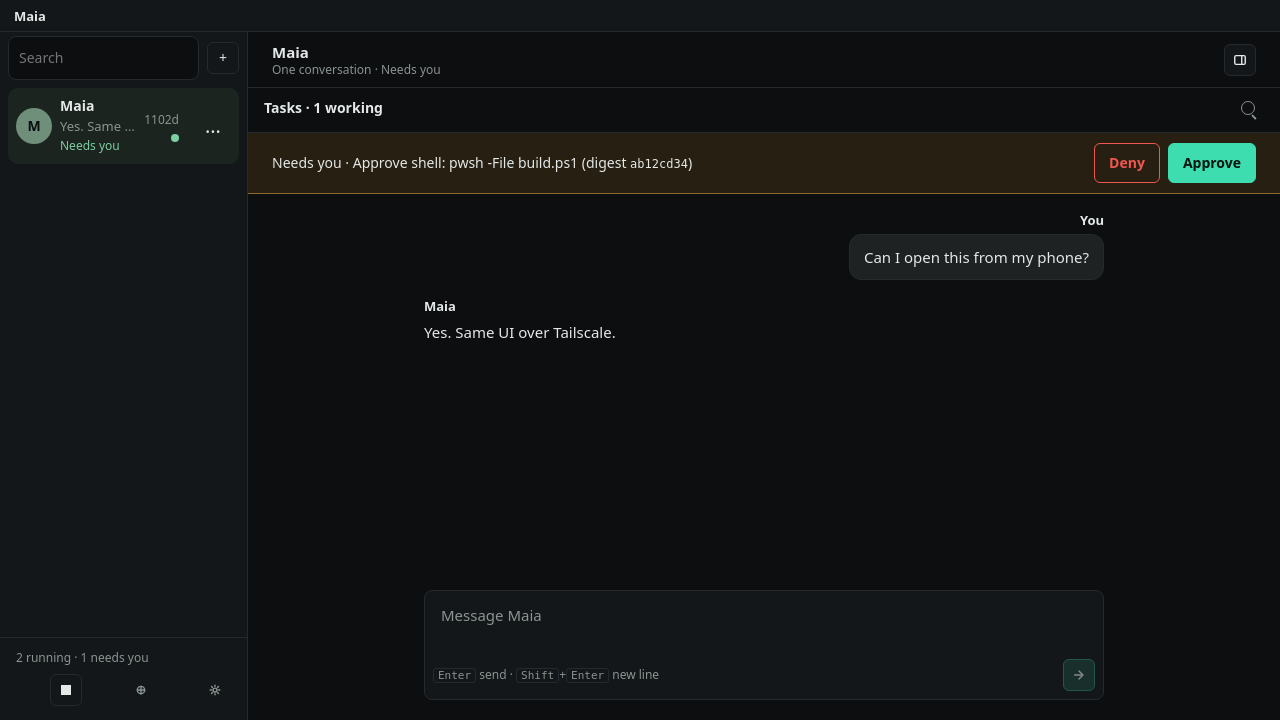
Test: RouterConversation › keeps a helper read-only and refreshes its open detail on Stop all
Click the button "Tasks · 1 working" at (324, 108), box top-left (264, 94), bottom-right (383, 122)
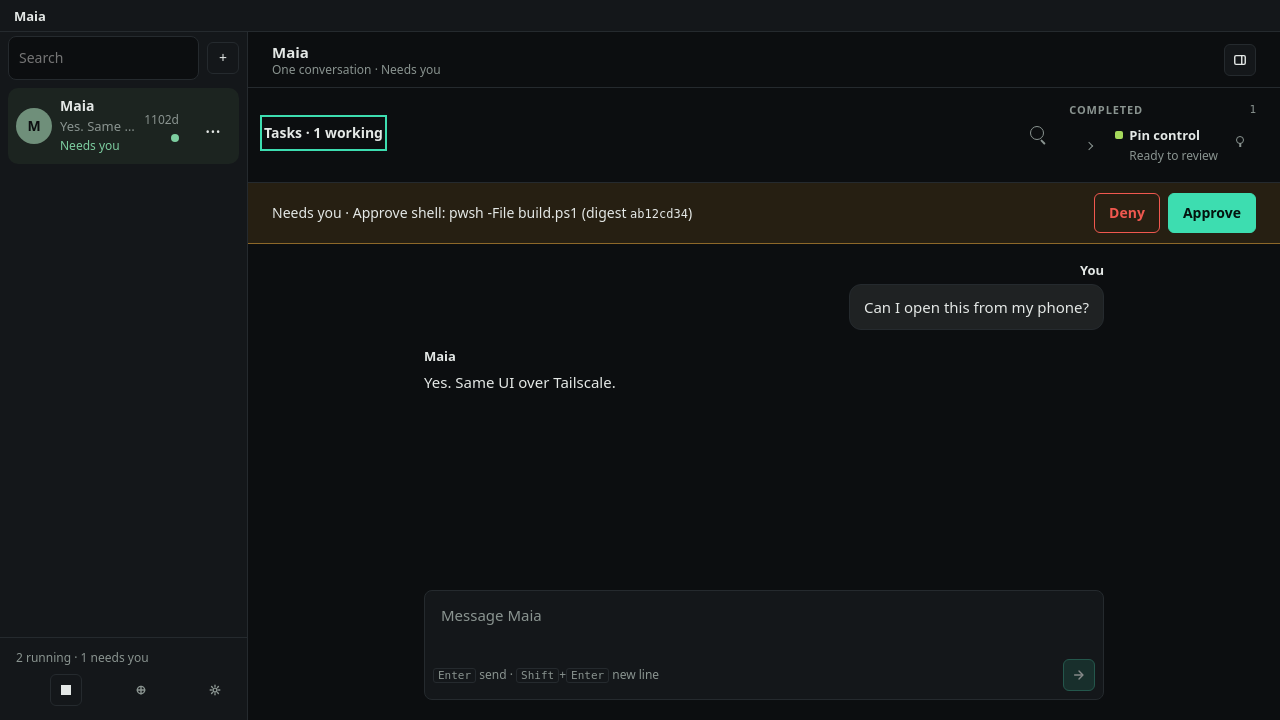
Click the button named "Expand Pin control" at (1089, 146), box top-left (1069, 126), bottom-right (1109, 166)
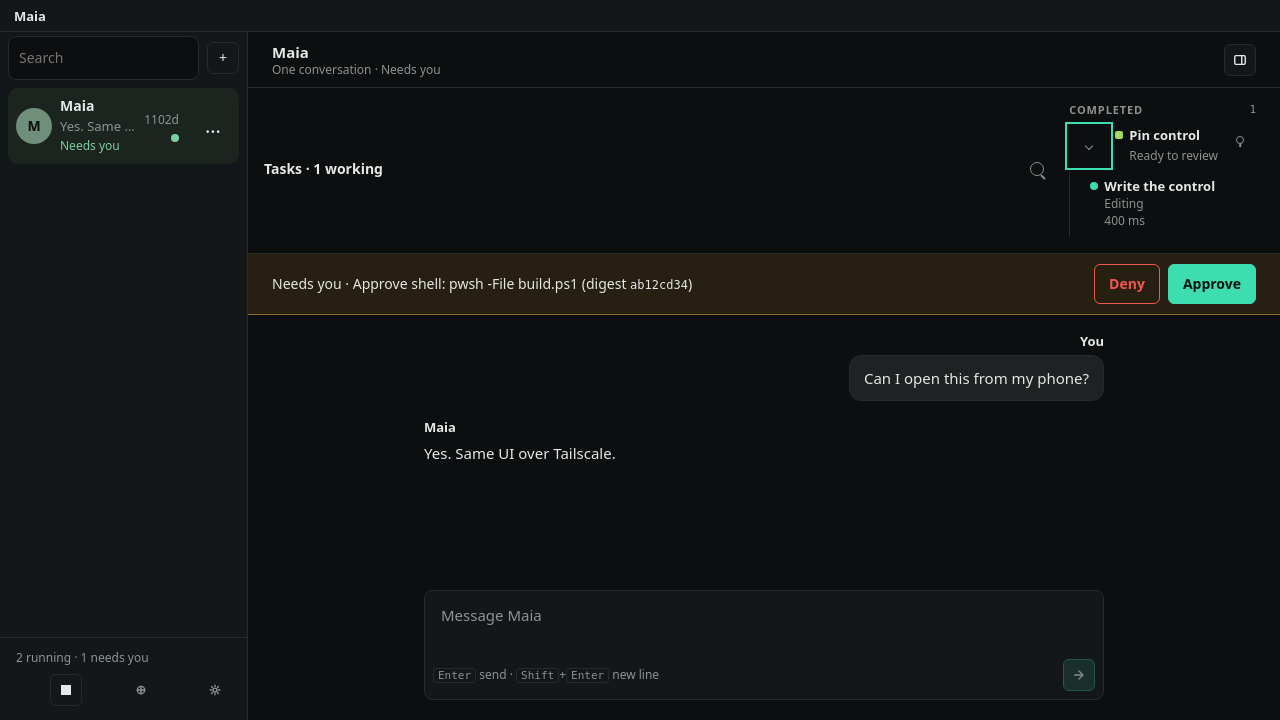
Click the button with aria-label "Open Write the control" at (1169, 203), box top-left (1090, 177), bottom-right (1248, 229)
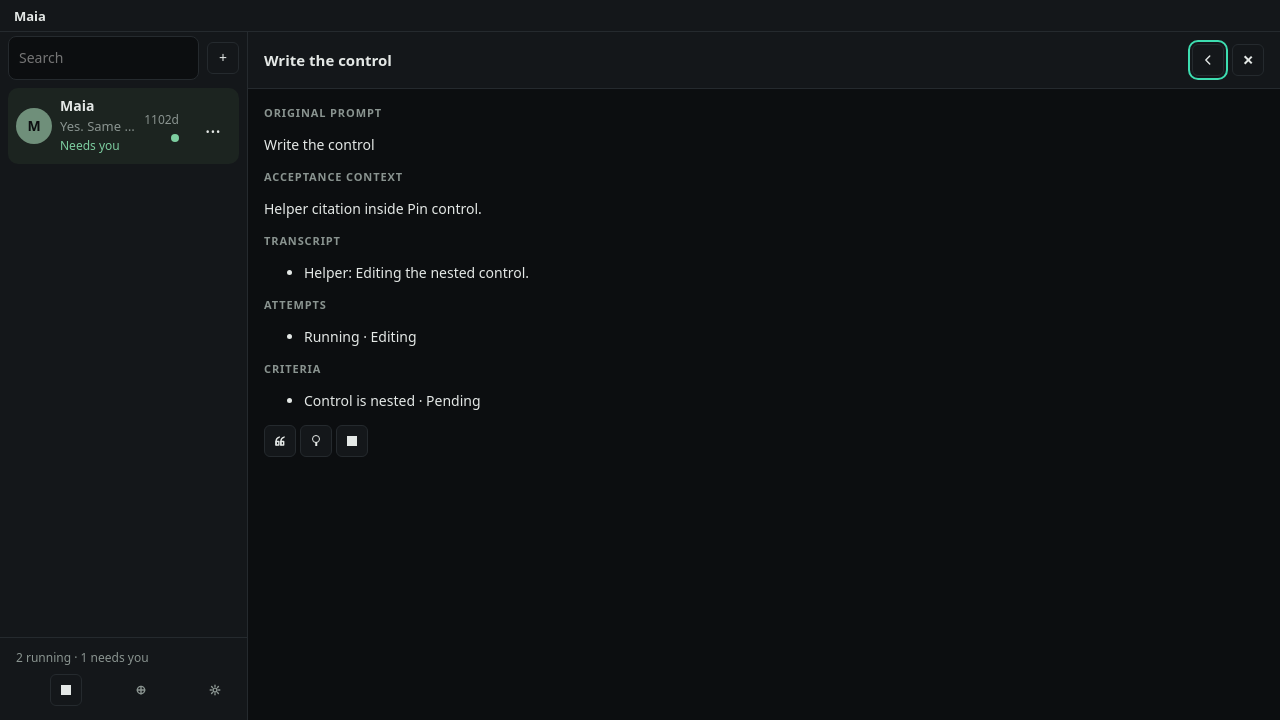
Click the button named "Stop all running threads" at (66, 690), box top-left (50, 674), bottom-right (82, 706)
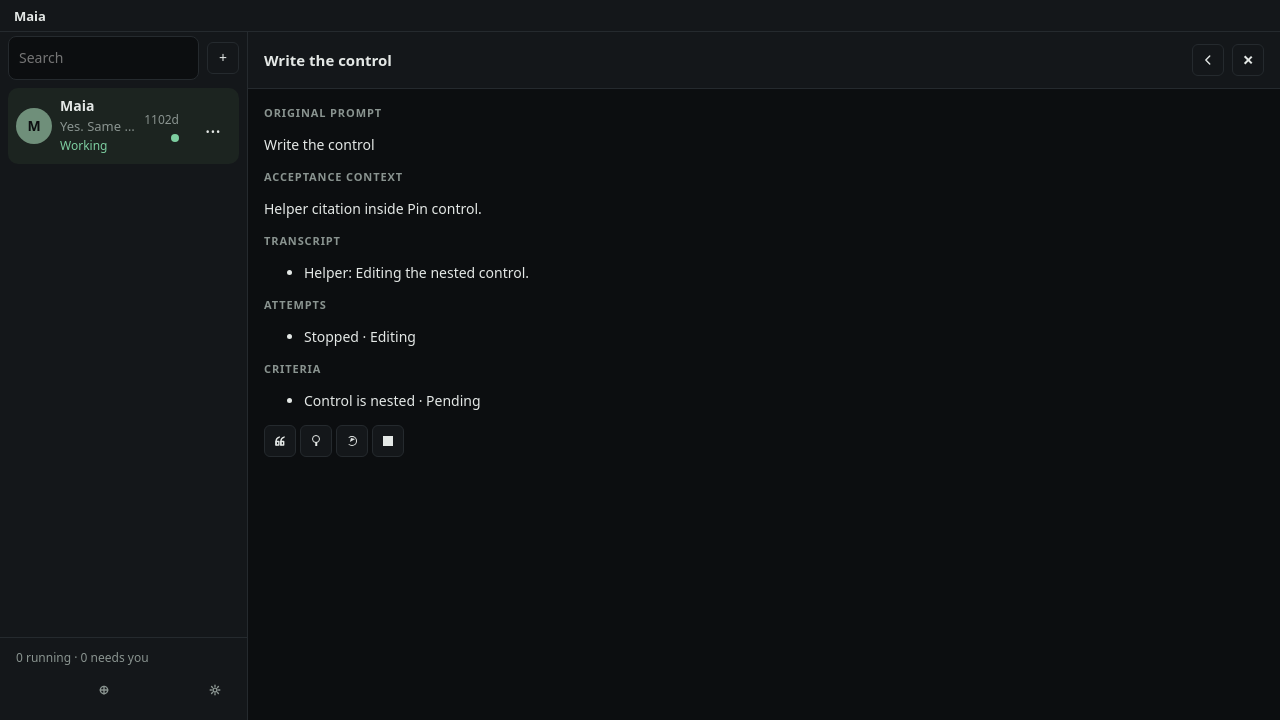
Check: the list named "Attempts" shows "Stopped", box top-left (304, 327), bottom-right (416, 346)
